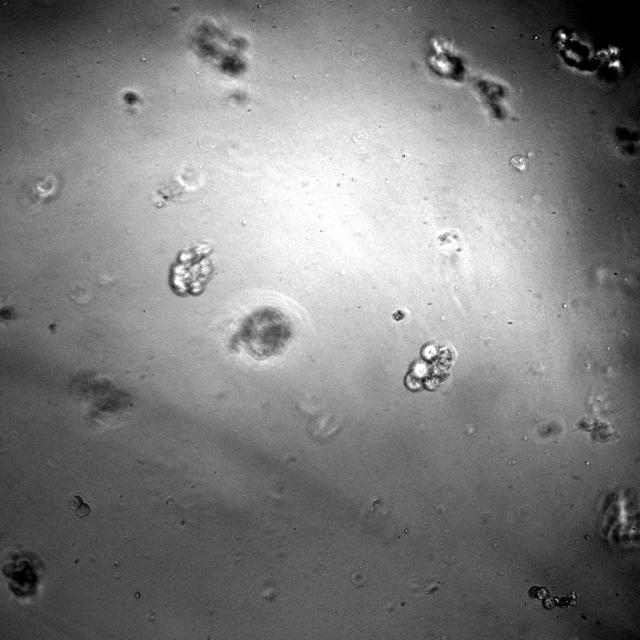organoid: (426, 35, 509, 120), (552, 27, 624, 79), (188, 16, 249, 76), (404, 340, 457, 392), (0, 547, 44, 603), (169, 242, 213, 294), (528, 585, 581, 609)
